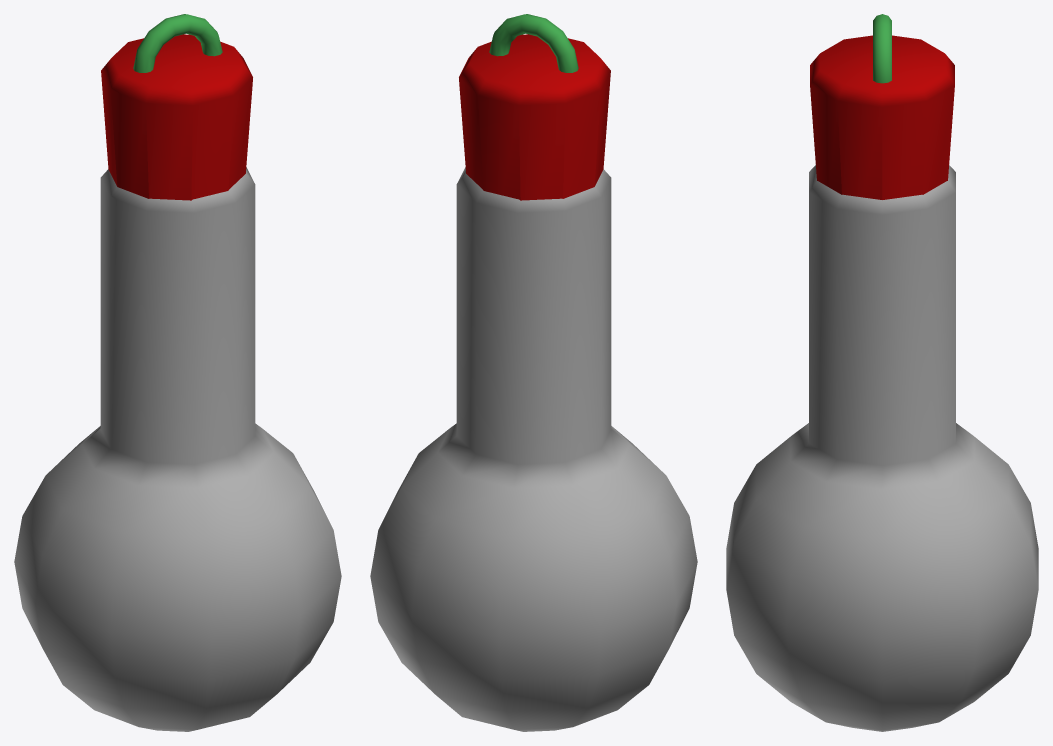
The model's file is Potion_02.fbx.
3 views of the same model, side by side, from view 1: azimuth 30°, elevation 25°; view 2: azimuth 150°, elevation 25°; view 3: azimuth 270°, elevation 25° (orthographic).
Visible parts, largest first — view 1: bottle, cork, polySurface14; view 2: bottle, cork, polySurface14; view 3: bottle, cork, polySurface14.
Boxes of the visible parts, x1,y1,x2,y2 form: bottle: (14,167,341,731); cork: (101,34,252,200); polySurface14: (133,14,222,72); bottle: (370,167,697,731); cork: (459,34,610,200); polySurface14: (489,14,578,72); bottle: (726,165,1038,731); cork: (810,35,954,199); polySurface14: (873,14,891,83).
Bounding box in the file's own units: 2.04 × 4.8 × 1.94.
